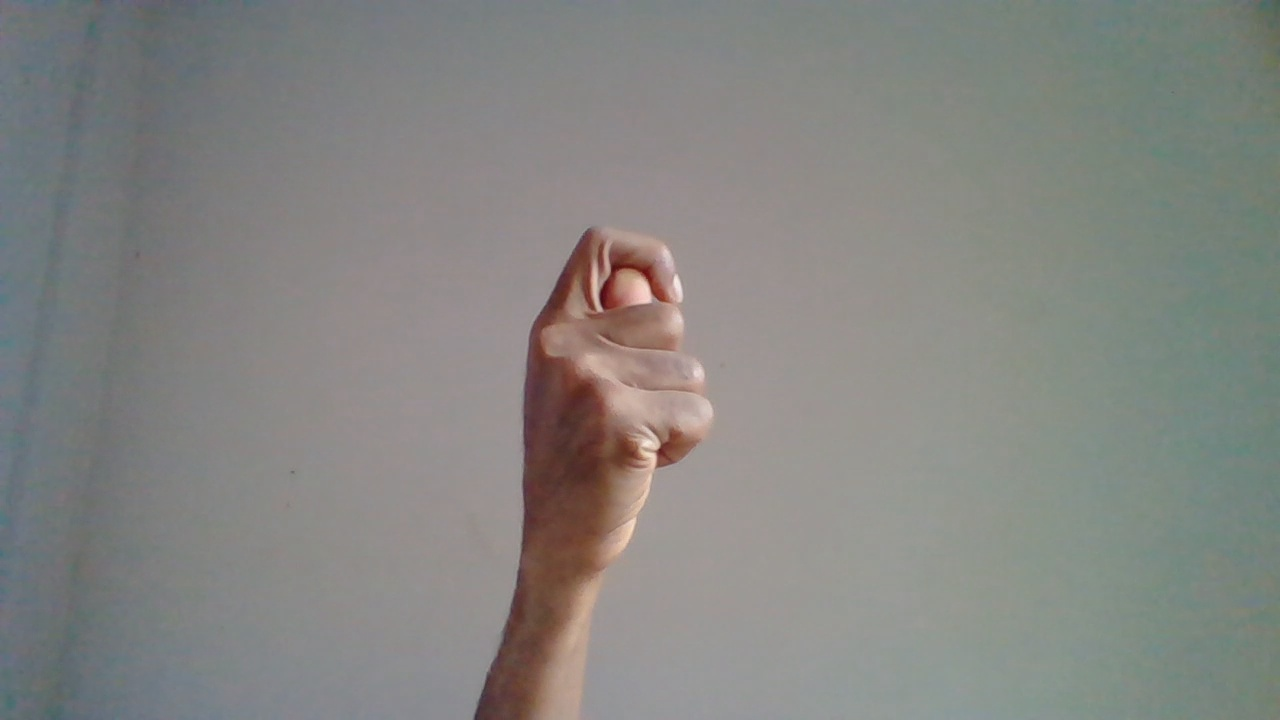che: (513, 217, 719, 677)
